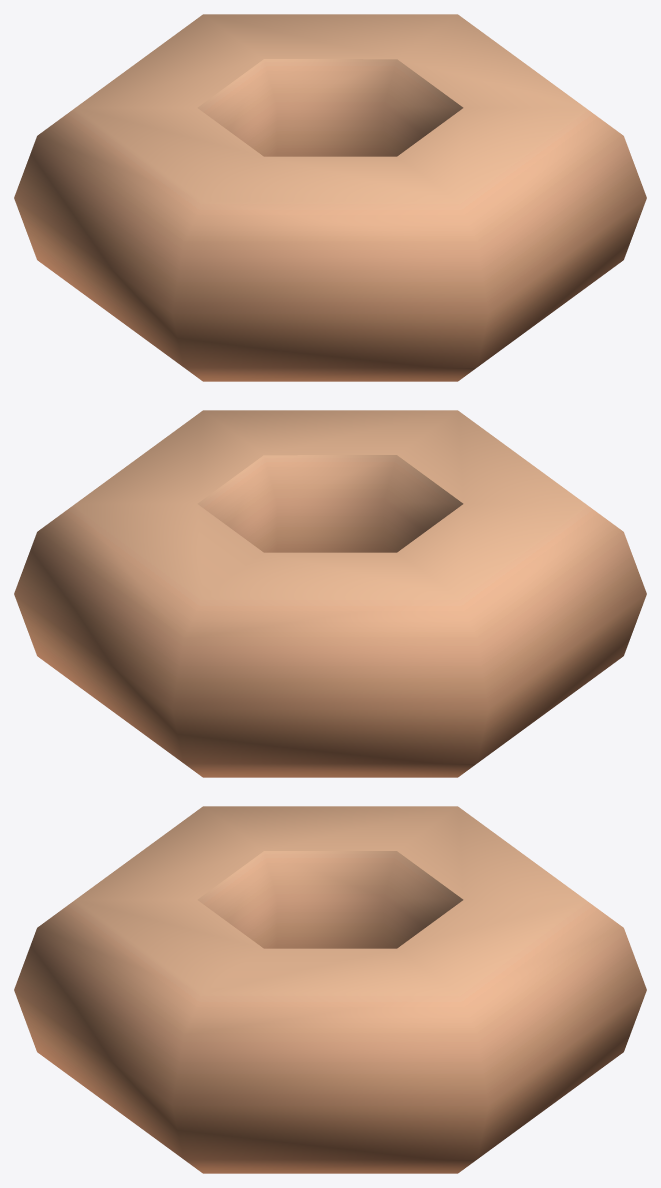
File: k-food-donut.glb
3 views of the same model, one above another, from view 1: azimuth 30°, elevation 25°; view 2: azimuth 150°, elevation 25°; view 3: azimuth 270°, elevation 25° (orthographic).
Visible parts, largest first — view 1: donut; view 2: donut; view 3: donut.
Boxes of the visible parts, bbox=[...] form: donut: bbox=[14, 14, 646, 381]; donut: bbox=[14, 410, 646, 777]; donut: bbox=[14, 806, 646, 1173].
Bounding box in the file's own units: 0.2451 × 0.0889 × 0.283.
Materials: 1 (1 with a texture image).
